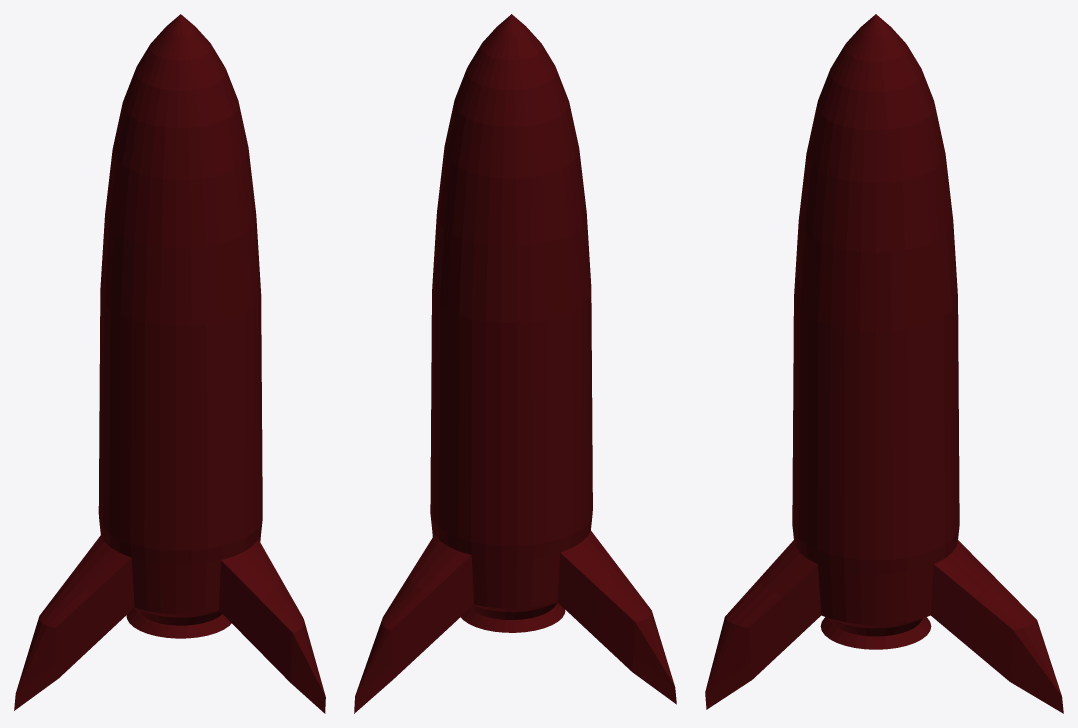
File: TempSpaceShip.fbx
The picture shows the model from 3 angles, left to right: view 1: azimuth 30°, elevation 25°; view 2: azimuth 150°, elevation 25°; view 3: azimuth 270°, elevation 25°; orthographic projection. The views are drawn at different scales.
Visible parts, largest first — view 1: Sphere; view 2: Sphere; view 3: Sphere.
Boxes of the visible parts, x1,y1,x2,y2 form: Sphere: [14, 14, 325, 713]; Sphere: [354, 14, 676, 713]; Sphere: [705, 14, 1063, 713].
Bounding box in the file's own units: 334 × 881 × 429.
